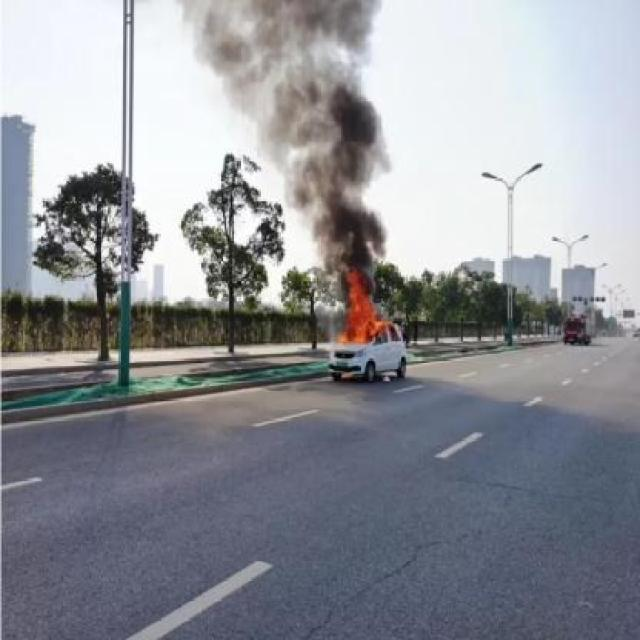Fire: (338, 254, 384, 346)
Smoke: (277, 3, 388, 274)
